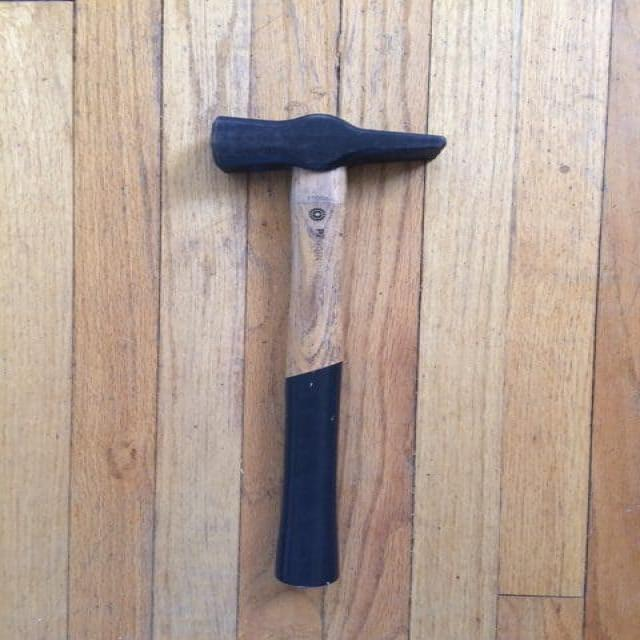hammer: (191, 103, 458, 592)
